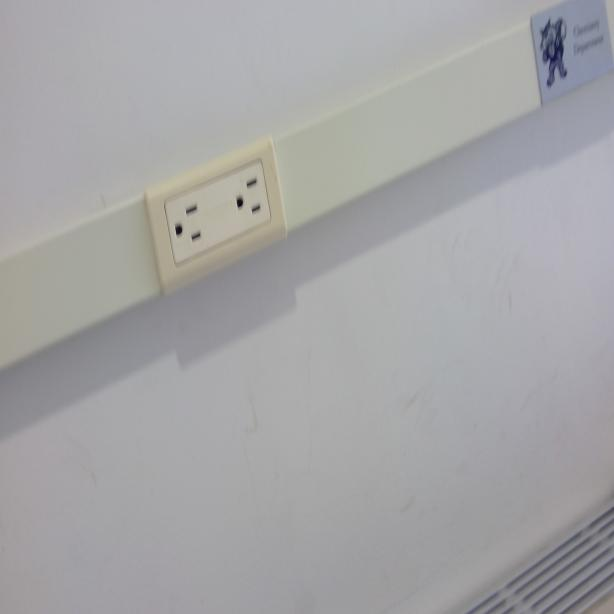typeb: (174, 187, 212, 261), (232, 169, 272, 233)
